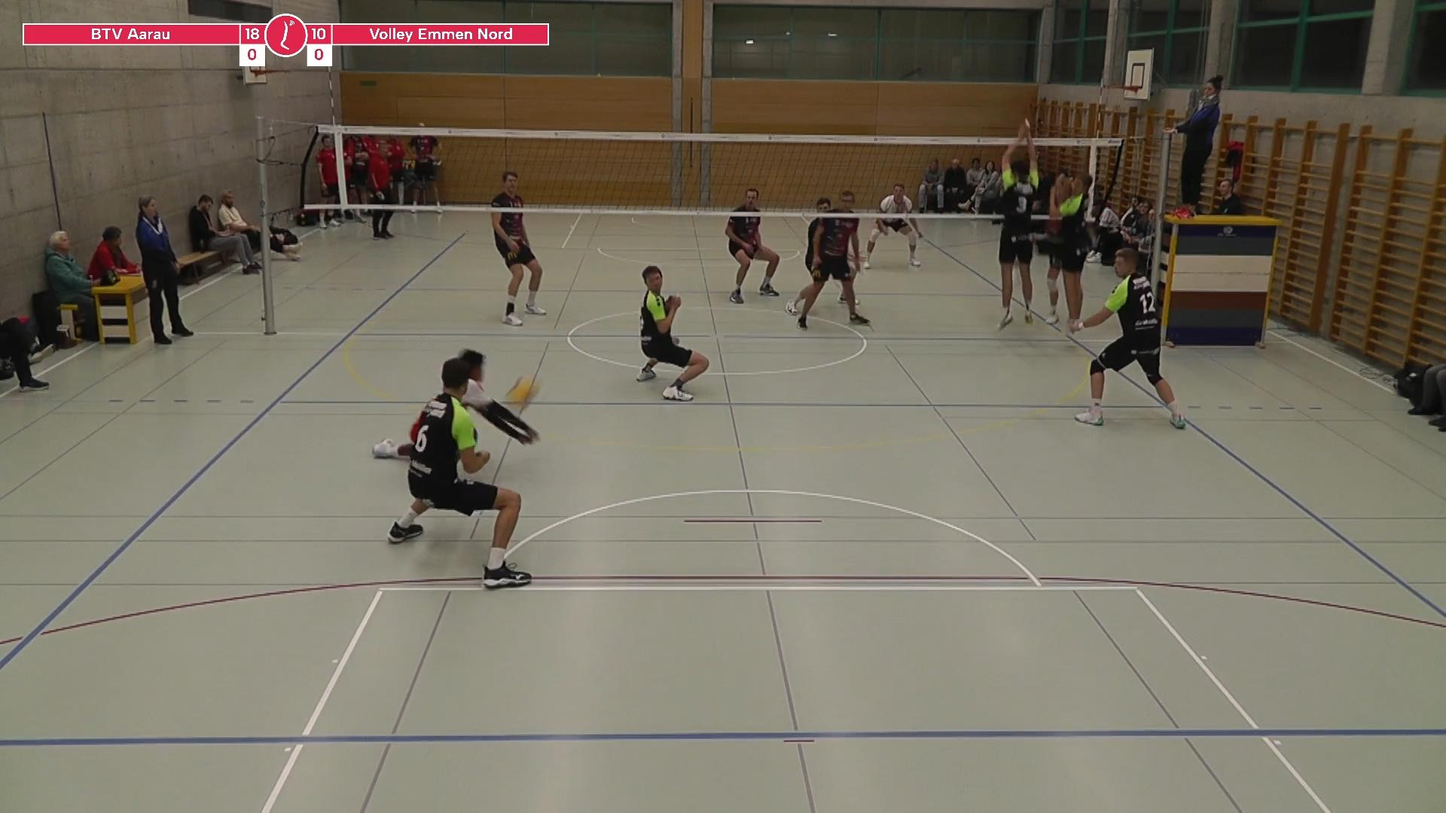Dig: (362, 334, 545, 467)
Player: (388, 358, 531, 588), (1069, 249, 1185, 428), (798, 192, 869, 329), (637, 266, 709, 401), (491, 170, 545, 326), (999, 121, 1039, 327), (1049, 175, 1092, 321), (725, 188, 779, 303), (862, 184, 921, 269), (804, 196, 831, 273)
ball: (503, 374, 539, 414)
